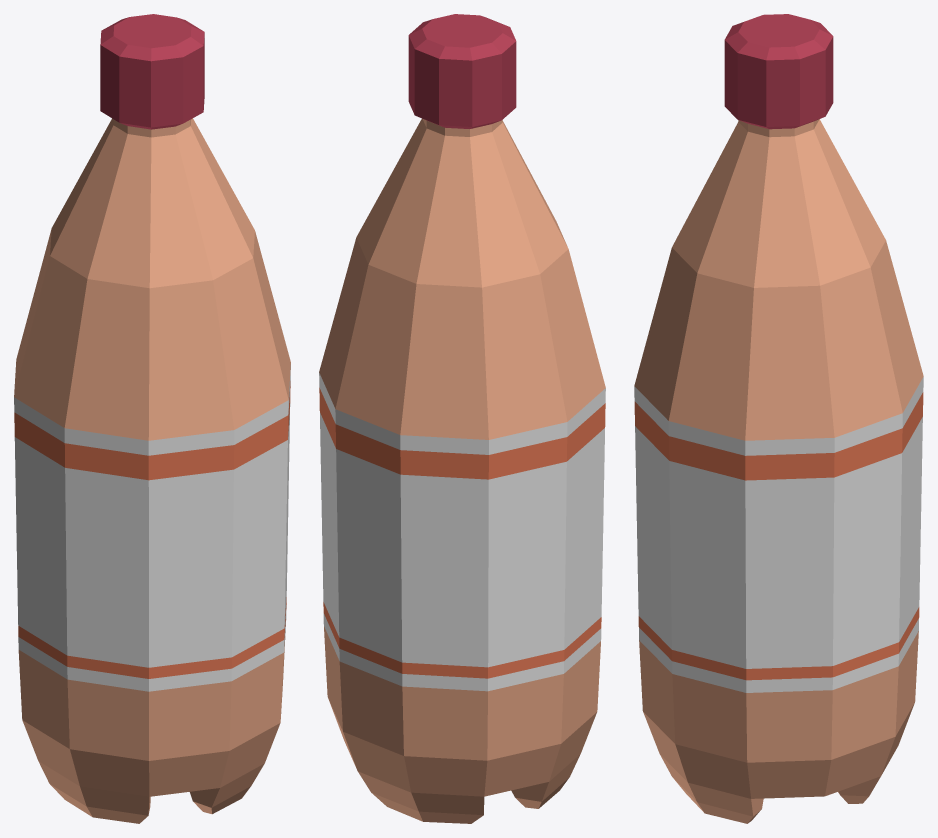
The model's file is Potion.Healing.fbx.
3 renders of one model, left to right at view 1: azimuth 30°, elevation 25°; view 2: azimuth 150°, elevation 25°; view 3: azimuth 270°, elevation 25°, orthographic.
Parts seen in each view (by area): view 1: Potion.Healing; view 2: Potion.Healing; view 3: Potion.Healing.
Boxes of the visible parts, x1,y1,x2,y2 form: Potion.Healing: [14, 14, 290, 823]; Potion.Healing: [319, 14, 605, 823]; Potion.Healing: [634, 14, 923, 823].
Size of the model in its own units: 28.33 by 84.18 by 29.04.
